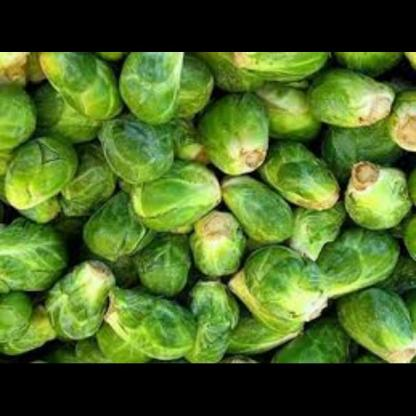brus capusta: (0, 52, 415, 361)
